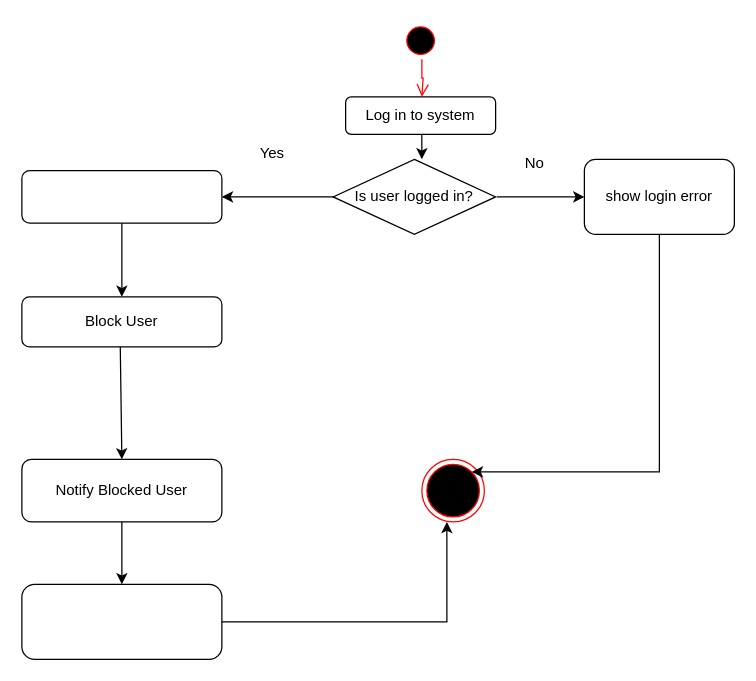
The diagram is 756 pixels wide and 681 high, and some of its shapes have lost their labels. Here are the shapes that lost their labels. From the top down, the box of each, then its label:
(21, 169, 222, 223): User Selects User to Block
(21, 583, 222, 659): Block User Successfully
